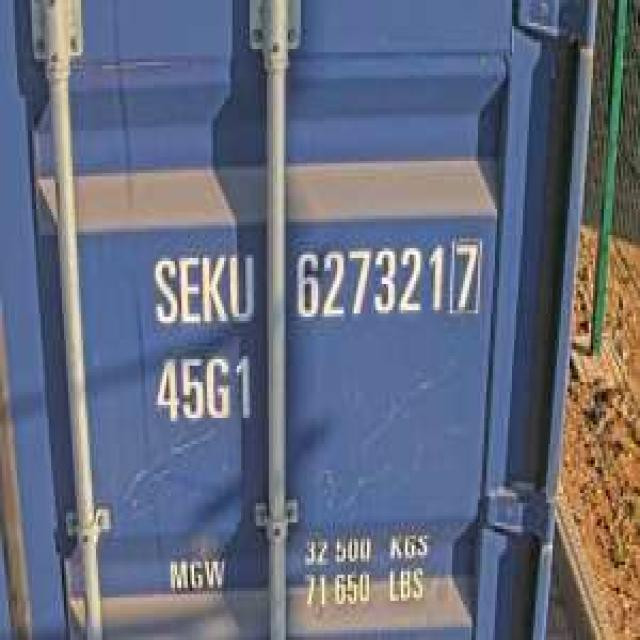dv: (446, 232, 484, 320)
owner: (147, 245, 258, 330)
serial: (290, 232, 447, 323)
size: (149, 346, 258, 431)
